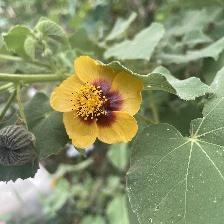indian mallow: (51, 56, 147, 152)
